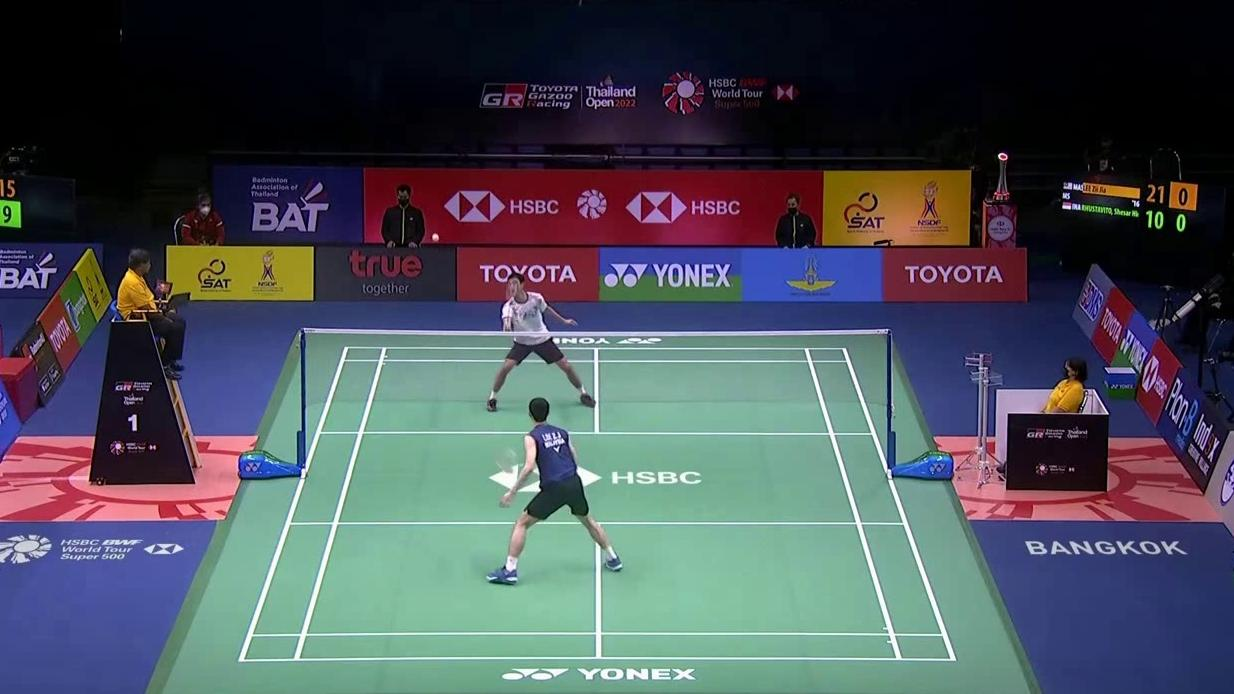racket: (495, 444, 547, 489), (505, 280, 517, 332)
shuttle: (432, 233, 439, 241)
